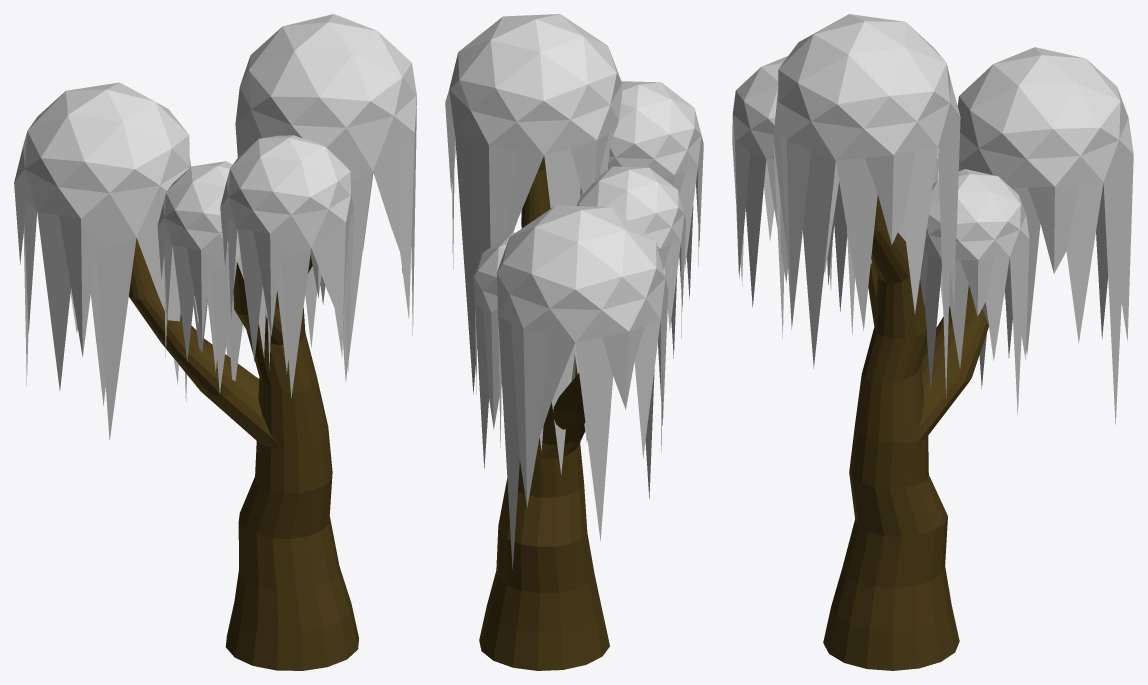
The model's file is Tropical+tree.fbx.
The picture shows the model from 3 angles, left to right: view 1: azimuth 30°, elevation 25°; view 2: azimuth 150°, elevation 25°; view 3: azimuth 270°, elevation 25°; orthographic projection. The views are drawn at different scales.
Visible parts, largest first — view 1: Cylinder.001, Icosphere.002, Icosphere, Icosphere.001, Icosphere.003, Icosphere.004; view 2: Icosphere.002, Icosphere, Cylinder.001, Icosphere.001, Icosphere.003, Icosphere.004; view 3: Icosphere, Cylinder.001, Icosphere.002, Icosphere.004, Icosphere.001, Icosphere.003.
Part boxes in pixels (x1,y1,x2,y2): Cylinder.001: (129, 238, 358, 670); Icosphere.002: (14, 82, 190, 440); Icosphere: (235, 14, 416, 382); Icosphere.001: (220, 135, 354, 398); Icosphere.003: (157, 161, 270, 393); Icosphere.004: (180, 293, 242, 380); Icosphere.002: (496, 205, 668, 568); Icosphere: (445, 14, 621, 394); Cylinder.001: (479, 156, 609, 670); Icosphere.001: (580, 81, 703, 298); Icosphere.003: (577, 166, 686, 358); Icosphere.004: (474, 232, 575, 468); Icosphere: (773, 14, 960, 398); Cylinder.001: (823, 194, 988, 670); Icosphere.002: (957, 47, 1133, 424); Icosphere.004: (920, 169, 1029, 414); Icosphere.001: (732, 56, 854, 334); Icosphere.003: (827, 150, 938, 311).
Bounding box in the file's own units: 227 × 470 × 271.
